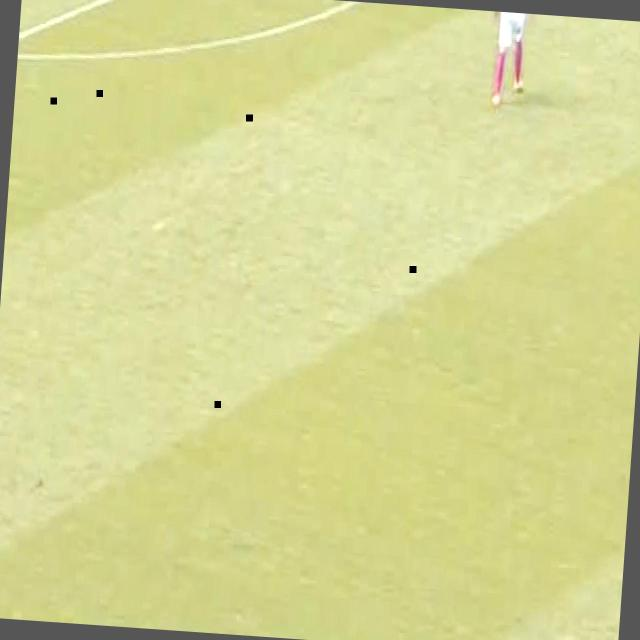player-white: (487, 11, 532, 108)
